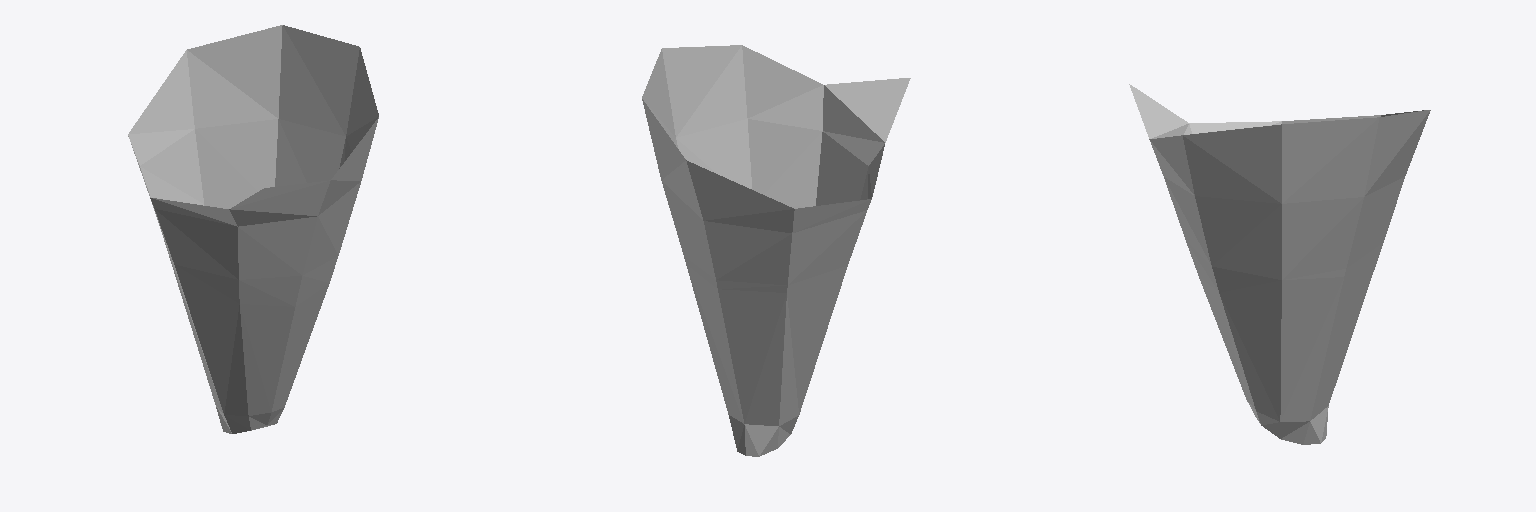
File: pierna_der.obj
3 renders of one model, left to right at view 1: azimuth 30°, elevation 25°; view 2: azimuth 150°, elevation 25°; view 3: azimuth 270°, elevation 25°, orthographic.
Visible parts, largest first — view 1: Body_jinsters_padoru.002; view 2: Body_jinsters_padoru.002; view 3: Body_jinsters_padoru.002.
Part boxes in pixels (left/top/right/bottom): Body_jinsters_padoru.002: left=128, top=25, right=378, bottom=433; Body_jinsters_padoru.002: left=642, top=45, right=910, bottom=456; Body_jinsters_padoru.002: left=1129, top=84, right=1430, bottom=444.
Bounding box in the file's own units: 0.0627 × 0.1043 × 0.0781.